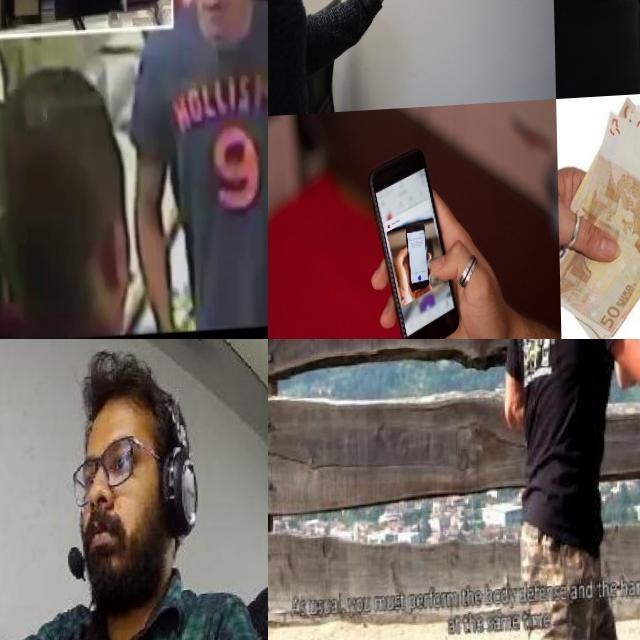-: (0, 460, 37, 640)
gun-knife-thesis - v11 Yolov5 augmented: (0, 0, 139, 54)
